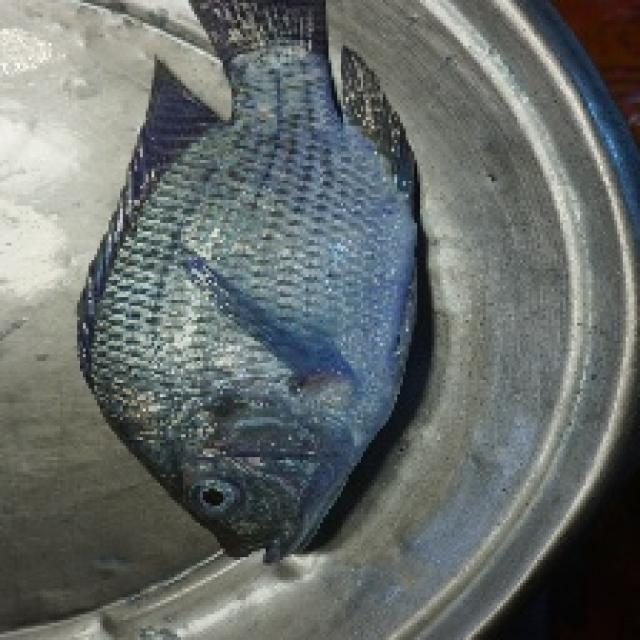Fresh: (79, 0, 452, 585)
